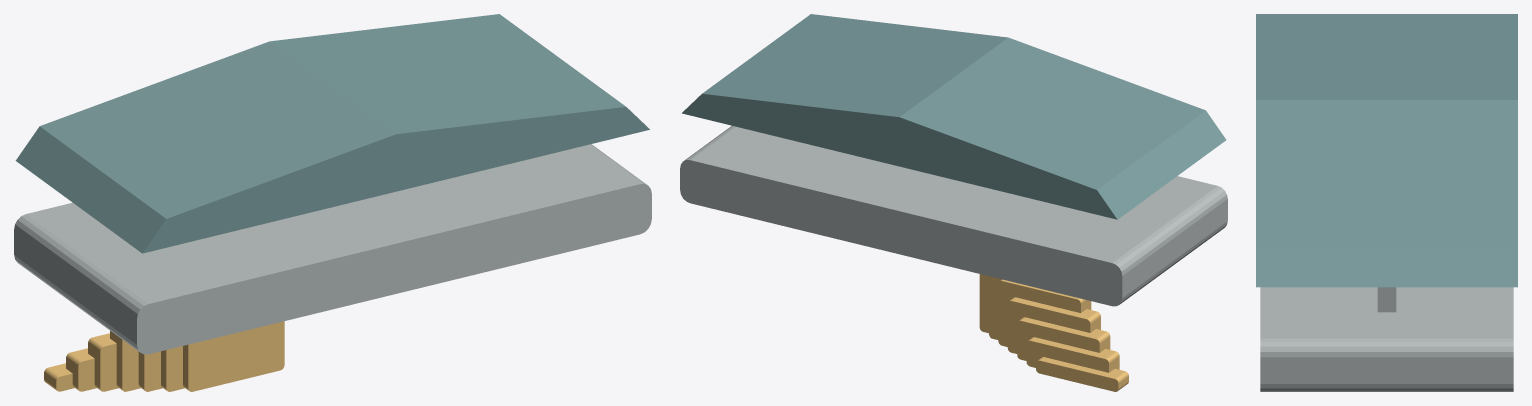
The model's file is rail-station.glb.
3 views of the same model, side by side, from view 1: azimuth 30°, elevation 25°; view 2: azimuth 150°, elevation 25°; view 3: azimuth 270°, elevation 25° (orthographic). The views are drawn at different scales.
Visible parts, largest first — view 1: unbranded_canopy, platform_mass, stairs_silhouette; view 2: unbranded_canopy, platform_mass, stairs_silhouette; view 3: unbranded_canopy, platform_mass.
Boxes of the visible parts, bbox=[...] form: unbranded_canopy: bbox=[15, 14, 649, 253]; platform_mass: bbox=[14, 144, 651, 354]; stairs_silhouette: bbox=[44, 321, 284, 391]; unbranded_canopy: bbox=[682, 14, 1226, 219]; platform_mass: bbox=[680, 126, 1227, 306]; stairs_silhouette: bbox=[979, 274, 1128, 391]; unbranded_canopy: bbox=[1256, 14, 1517, 287]; platform_mass: bbox=[1260, 287, 1513, 391].
Bounding box in the file's own units: 15 × 7.6 × 6.4.
